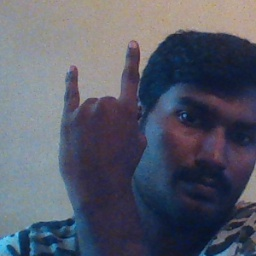V: (54, 38, 152, 190)
